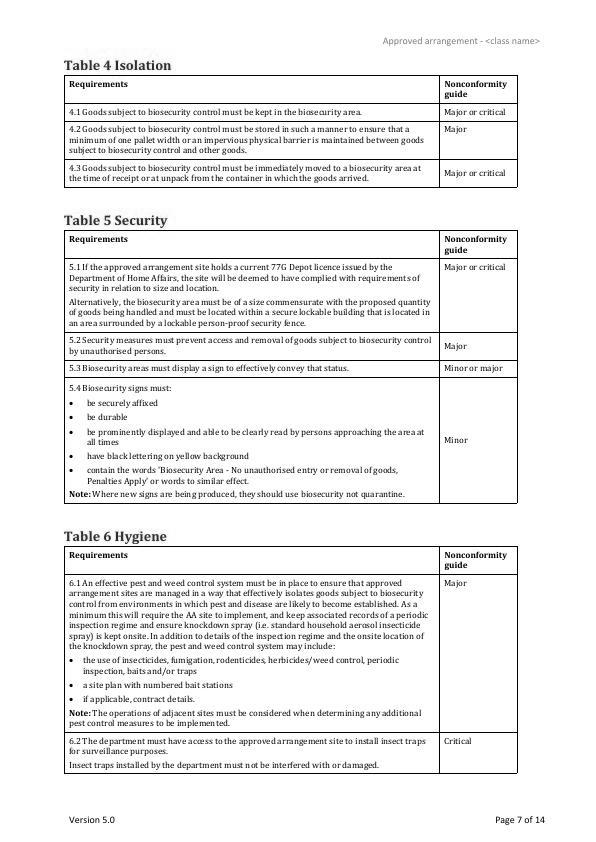table: (60, 228, 522, 509), (60, 543, 524, 781), (62, 73, 521, 192)
text: (62, 55, 171, 73), (61, 529, 168, 545), (63, 212, 170, 227)
